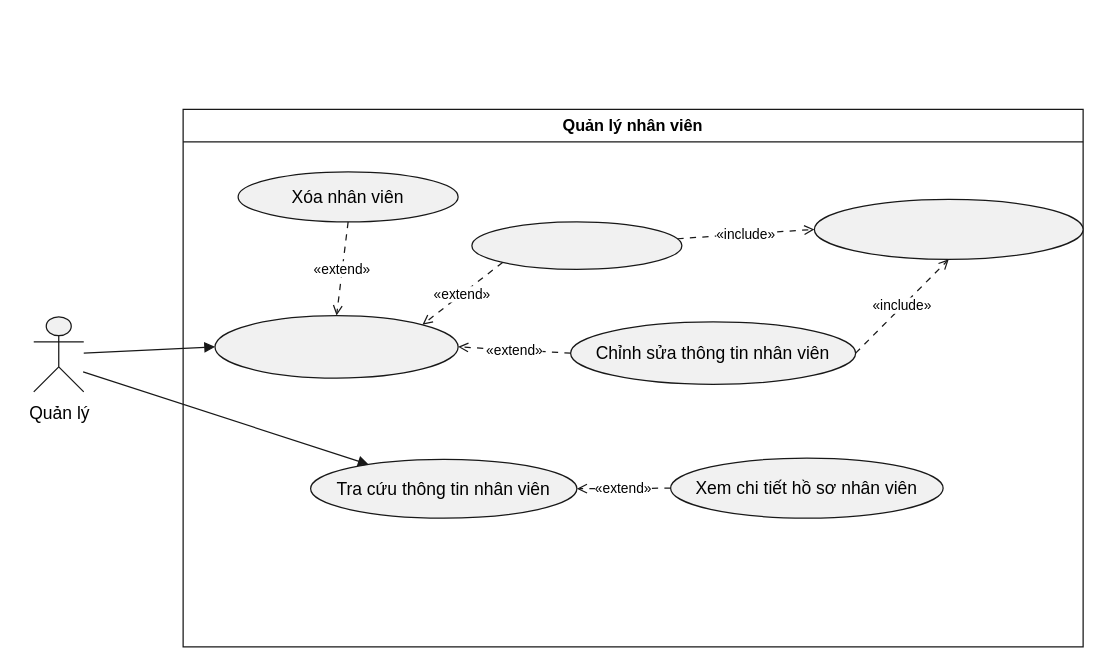
Image size: 1105x669. Some labels were removed from this diagram. The centre of each missing label's shape, as x and y in pixels:
"Cập nhật thông tin nhân viên" belongs at (x=336, y=346).
"Kiểm tra tính hợp lệ dữ liệu" belongs at (x=948, y=228).
"Thêm mới nhân viên" belongs at (x=576, y=245).
